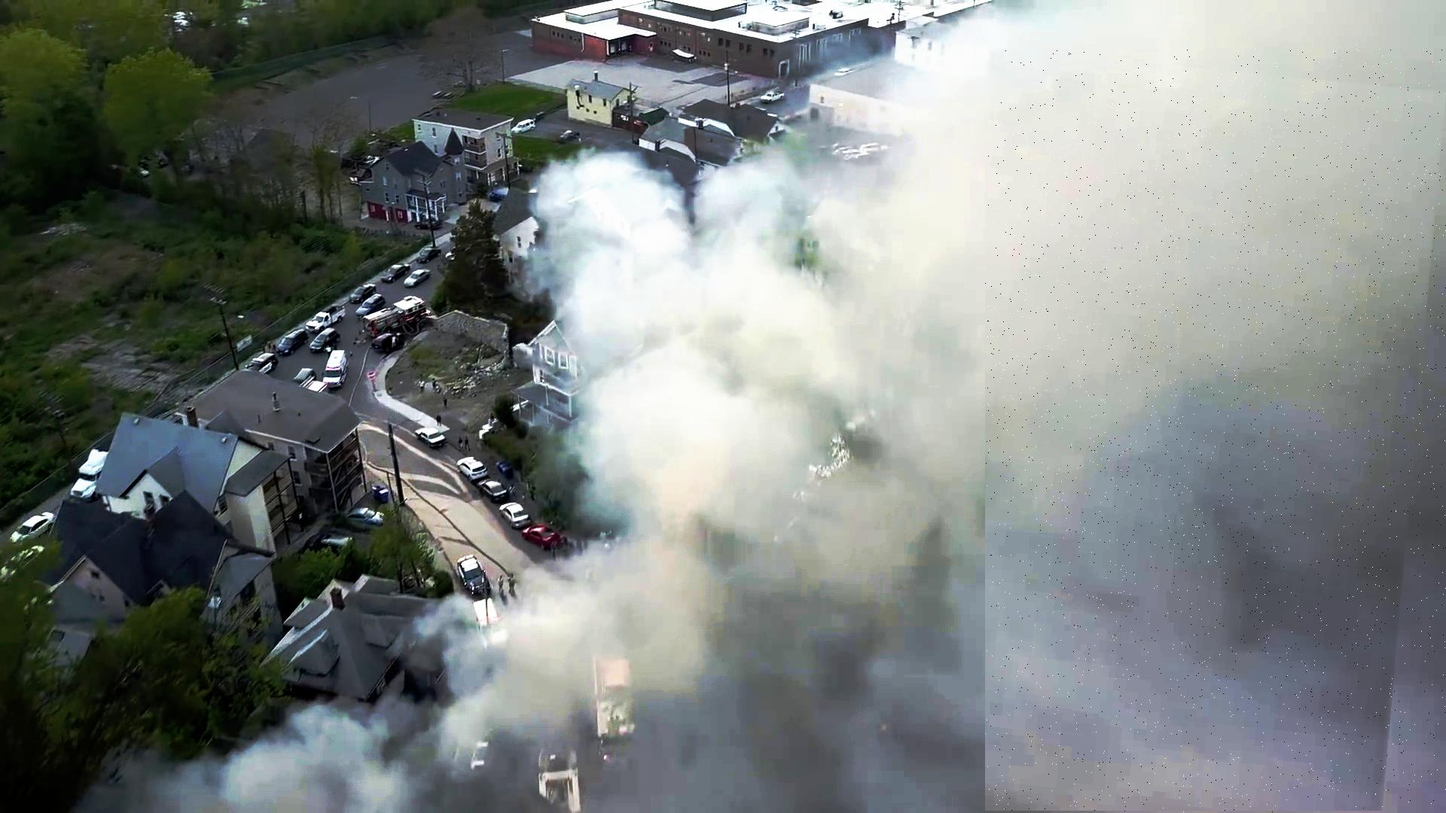smoke: (985, 49, 1446, 813)
